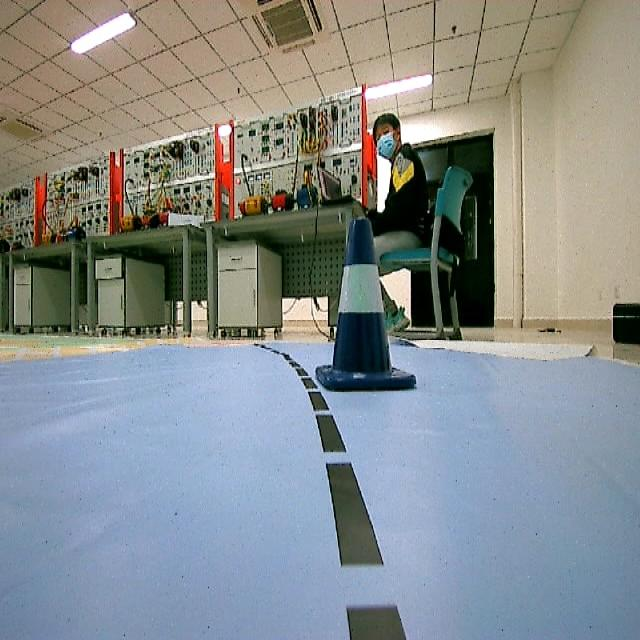obstacle: (326, 215, 422, 394)
